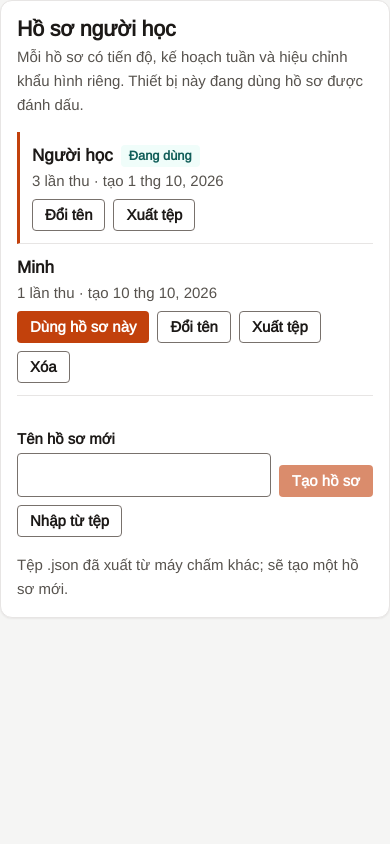
it: ProfilesCard › creates a profile and makes it active
Expected: the text "Minh" is shown, top-left (17, 258), bottom-right (54, 277)
Expected: the button "Tạo hồ sơ" is disabled, top-left (279, 465), bottom-right (373, 497)
Type "Lan" into the field labelled "Tên hồ sơ mới".
click(144, 475); type("Lan")  # box top-left (17, 453), bottom-right (271, 497)
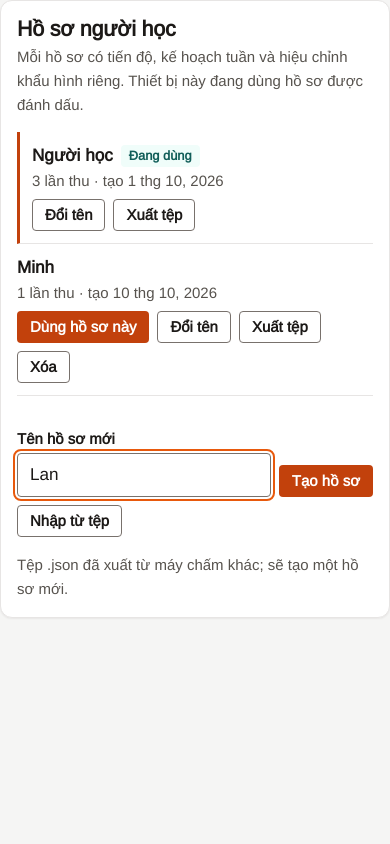
Click the button "Tạo hồ sơ".
click(326, 481)  # box top-left (279, 465), bottom-right (373, 497)
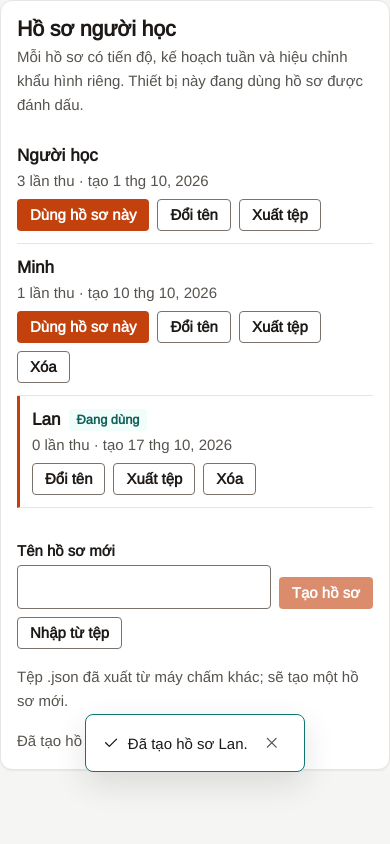
Result: the text "Lan" is shown at top-left (32, 410), bottom-right (61, 429)
